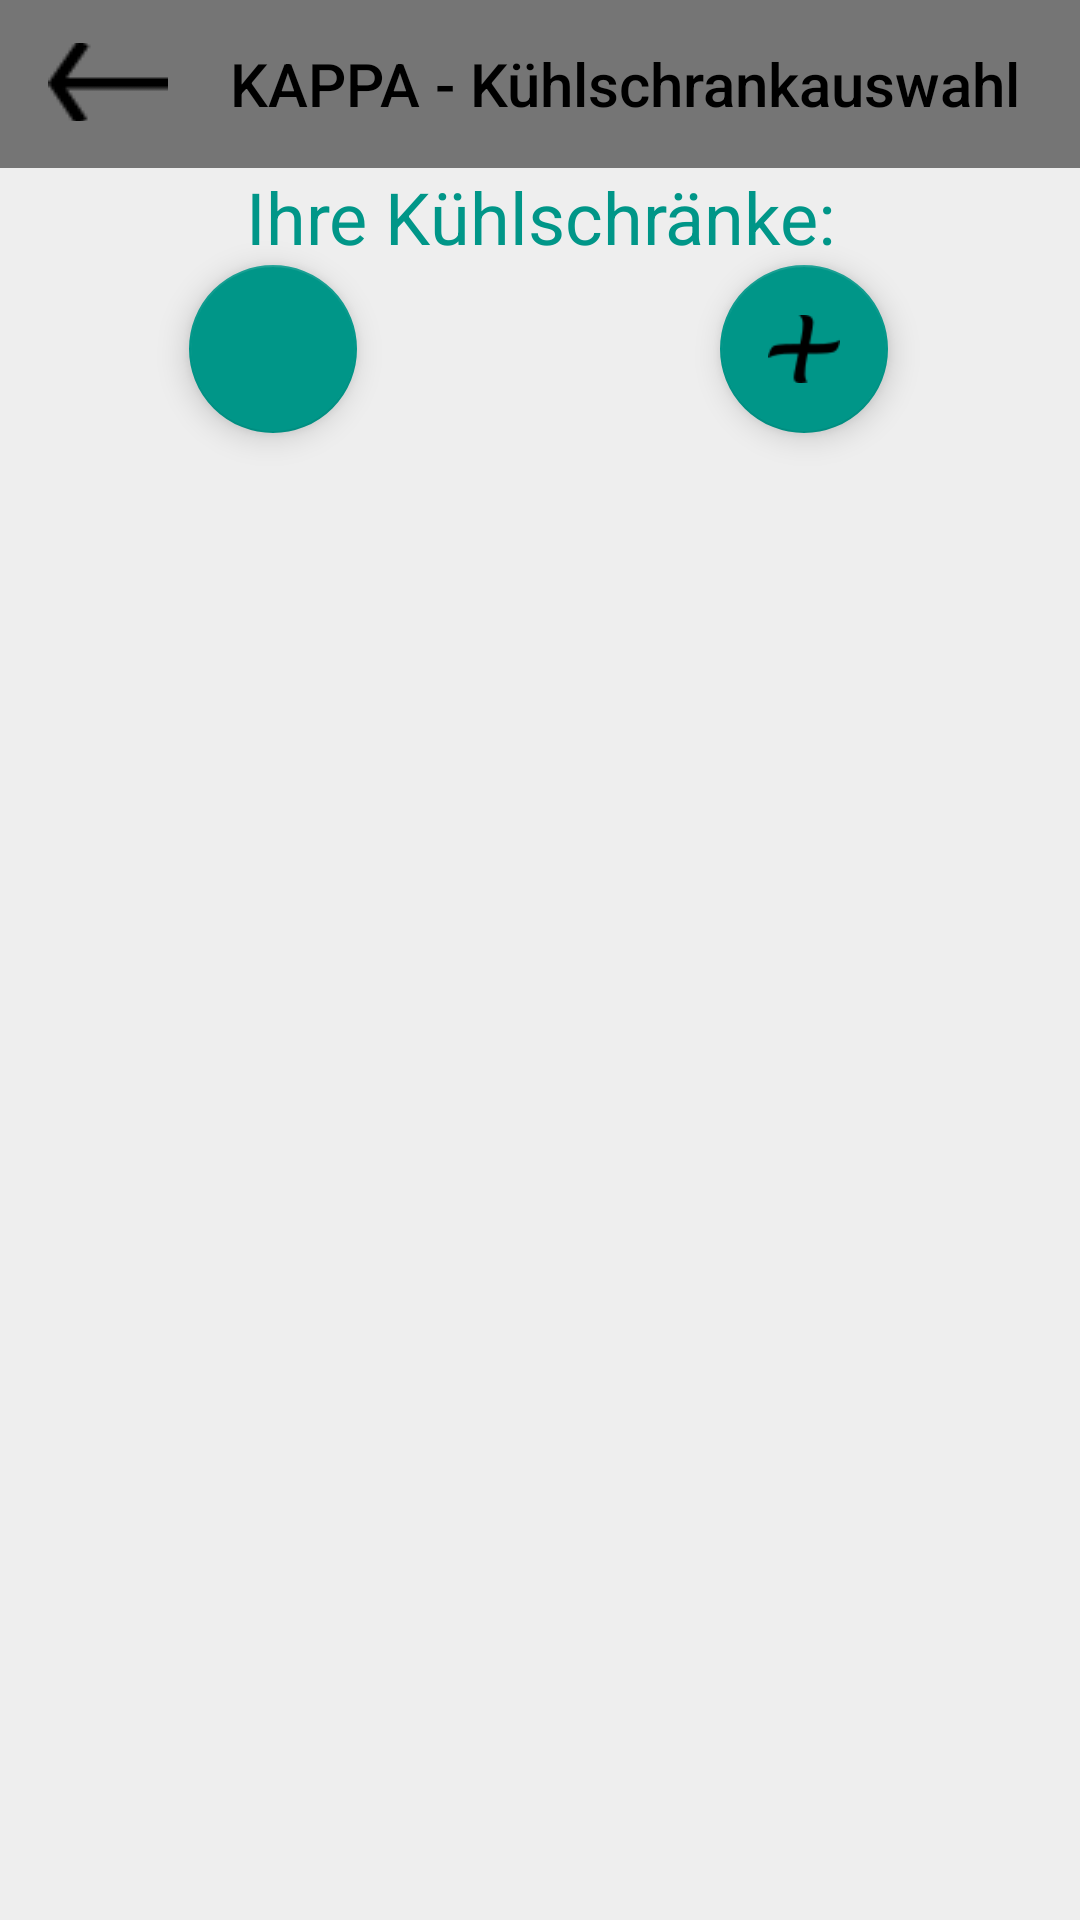

Icons on this 1080×1920 Android screen, each with the point to tap as [x,y]:
back: [108,82]
plus: [804,349]
